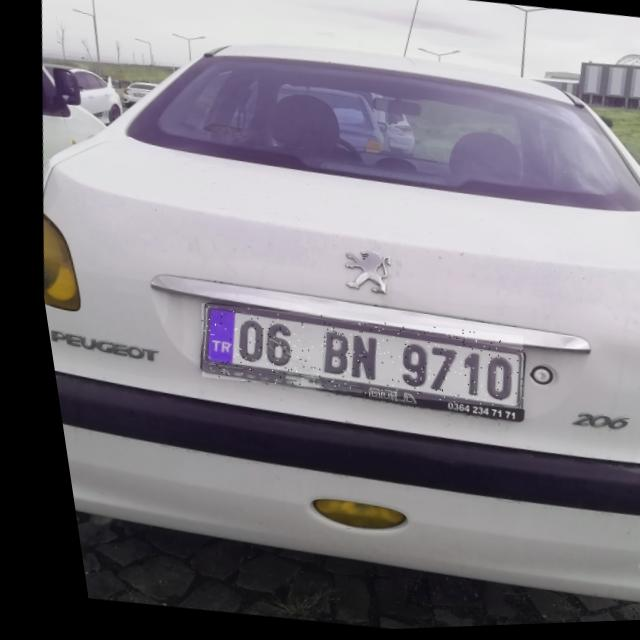license_plate: (182, 295, 520, 423)
